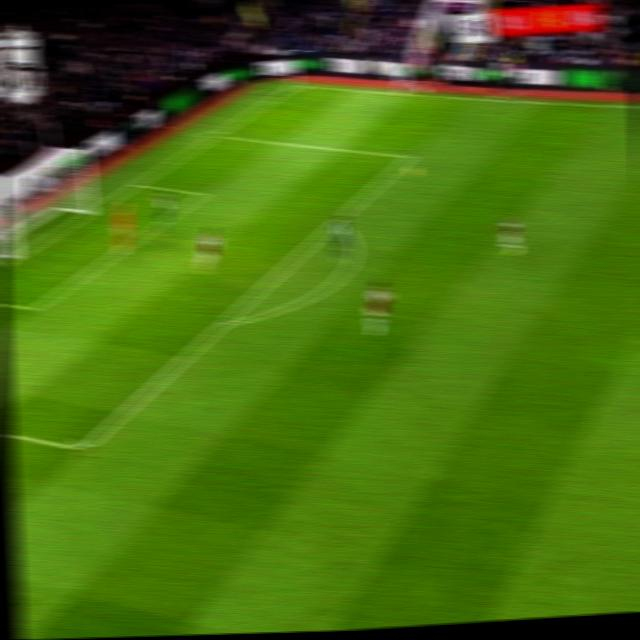bigarea_bottom_inner: (71, 435, 94, 458)
bigarea_top_inner: (401, 150, 416, 163)
bigarea_top_outter: (208, 131, 222, 139)
bottom_arc_area_intersection: (216, 315, 234, 330)
corner: (290, 82, 305, 88)
smallarea_bottom_inner: (24, 300, 45, 316)
smallarea_top_inner: (194, 188, 210, 198)
smallarea_top_outter: (131, 178, 147, 188)
